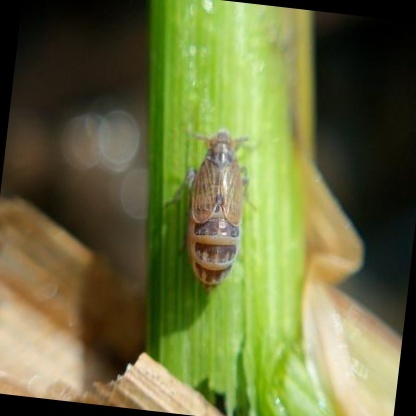Brown_hopper: (157, 112, 267, 303)
